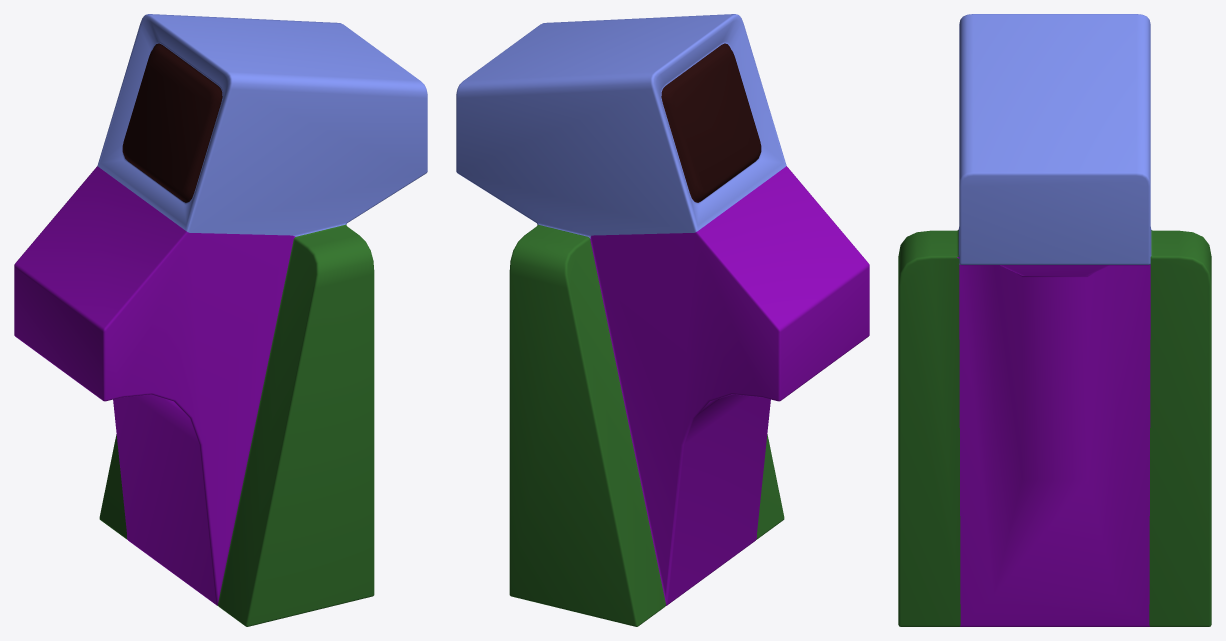
The model's file is Prop002.fbx.
3 renders of one model, left to right at view 1: azimuth 30°, elevation 25°; view 2: azimuth 150°, elevation 25°; view 3: azimuth 270°, elevation 25°, orthographic. The views are drawn at different scales.
Visible parts, largest first — view 1: Prop001; view 2: Prop001; view 3: Prop001.
Part boxes in pixels (x1=…): Prop001: x1=14, y1=14, x2=427, y2=626; Prop001: x1=456, y1=14, x2=869, y2=626; Prop001: x1=898, y1=14, x2=1211, y2=626.
Size of the model in its own units: 75.94 by 118 by 60.01.
